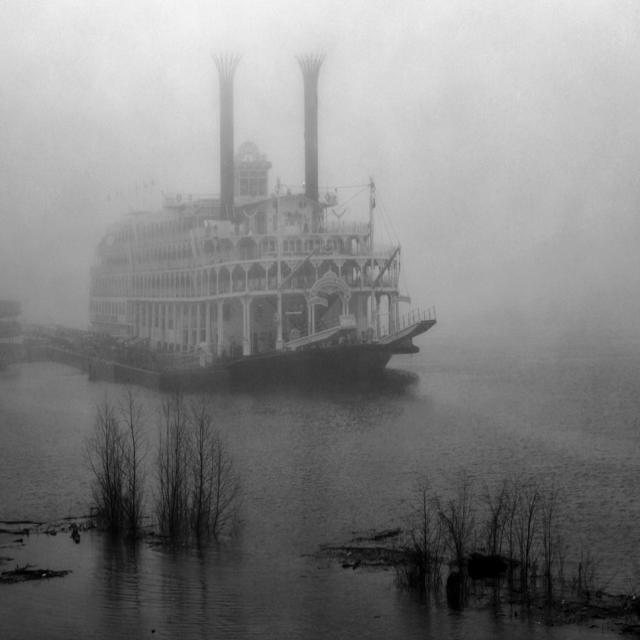passenger ship: (70, 106, 464, 406)
